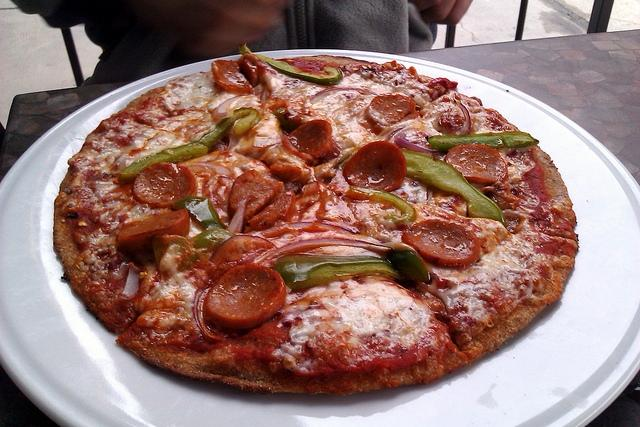bell pepper: (118, 106, 260, 182), (401, 148, 506, 230), (272, 251, 430, 291), (238, 44, 342, 85), (346, 186, 416, 223), (425, 131, 539, 152), (172, 194, 225, 230)
onion: (249, 237, 392, 264), (206, 174, 234, 228), (226, 194, 259, 233), (313, 87, 378, 98), (122, 268, 140, 296)
